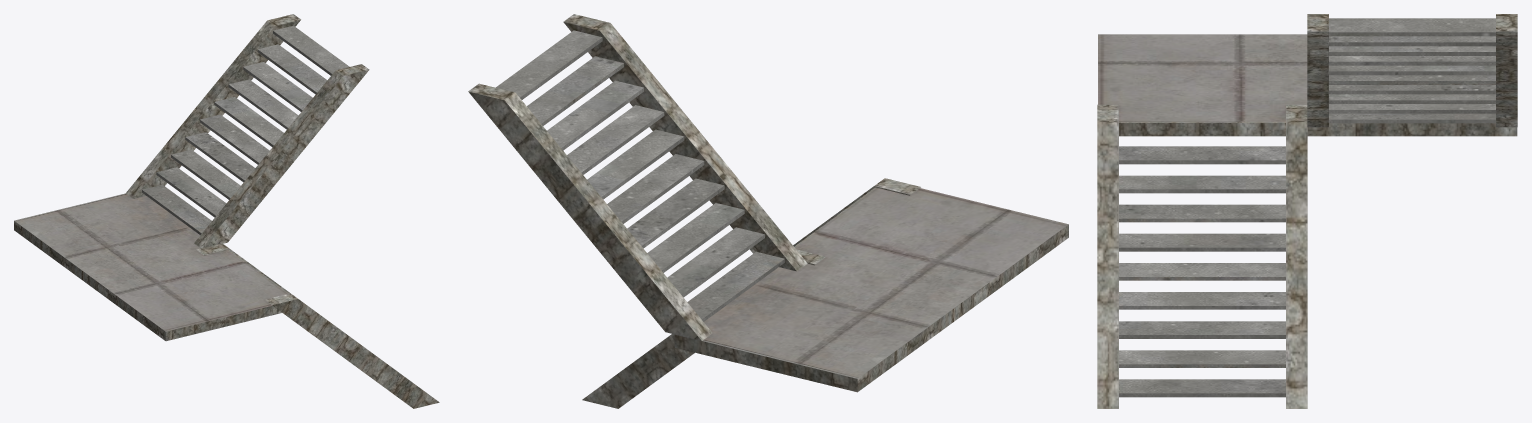
The model's file is stone_stairs_u_shape_textured.glb.
The picture shows the model from 3 angles, left to right: view 1: azimuth 30°, elevation 25°; view 2: azimuth 150°, elevation 25°; view 3: azimuth 270°, elevation 25°; orthographic projection. The views are drawn at different scales.
Parts seen in each view (by area): view 1: Cube.001; view 2: Cube.001; view 3: Cube.001.
Part boxes in pixels (left/top/right/bottom): Cube.001: left=14, top=14, right=439, bottom=408; Cube.001: left=468, top=14, right=1068, bottom=408; Cube.001: left=1097, top=14, right=1517, bottom=408.
Bounding box in the file's own units: 2.13 × 2.01 × 2.
Materials: 1 (1 with a texture image).
